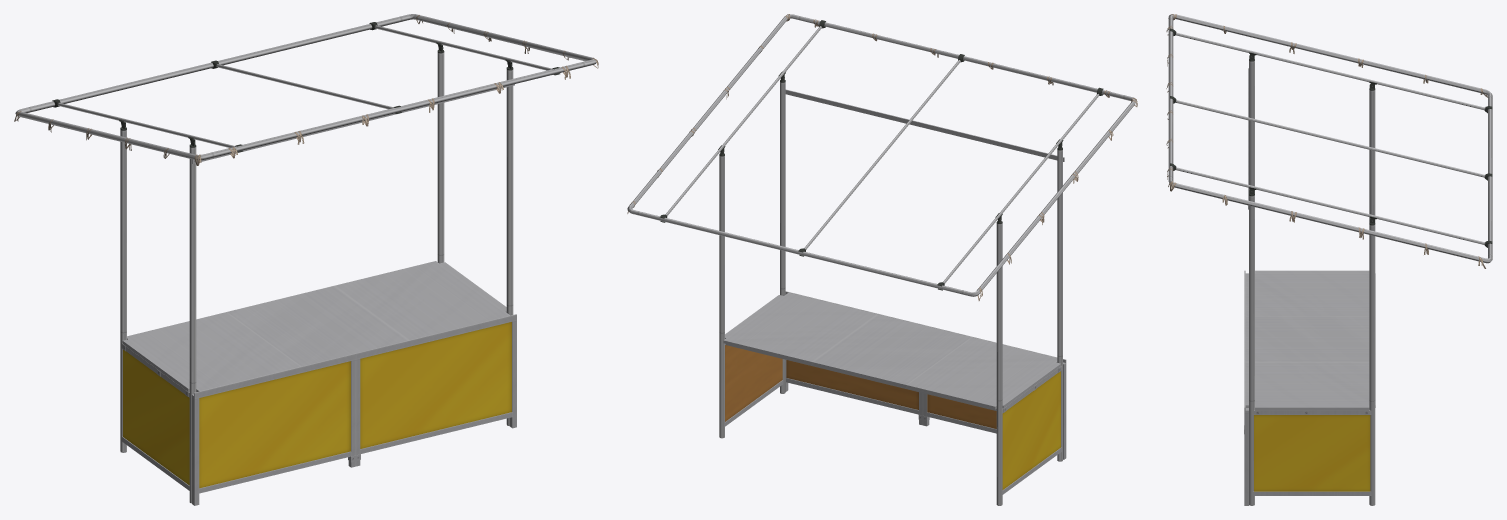
Rendered from jsf_4P_s02_c03_t01.fbx.
3 renders of one model, left to right at view 1: azimuth 30°, elevation 25°; view 2: azimuth 150°, elevation 25°; view 3: azimuth 270°, elevation 25°, orthographic. The views are drawn at different scales.
Parts seen in each view (by area): view 1: Base_s02_c03, Table_4P_s02_t01, Pillar4_s02, Rope_4P_s02; view 2: Table_4P_s02_t01, Pillar4_s02, Base_s02_c03, Rope_4P_s02; view 3: Table_4P_s02_t01, Pillar4_s02, Base_s02_c03, Rope_4P_s02.
Part boxes in pixels (x1=…): Base_s02_c03: x1=121, y1=314, x2=516, y2=505; Table_4P_s02_t01: x1=122, y1=261, x2=509, y2=396; Pillar4_s02: x1=15, y1=14, x2=596, y2=503; Rope_4P_s02: x1=14, y1=15, x2=598, y2=165; Table_4P_s02_t01: x1=723, y1=292, x2=1061, y2=412; Pillar4_s02: x1=627, y1=14, x2=1136, y2=505; Base_s02_c03: x1=725, y1=291, x2=1066, y2=494; Rope_4P_s02: x1=627, y1=14, x2=1137, y2=300; Table_4P_s02_t01: x1=1245, y1=270, x2=1375, y2=414; Pillar4_s02: x1=1168, y1=14, x2=1492, y2=505; Base_s02_c03: x1=1244, y1=270, x2=1371, y2=505; Rope_4P_s02: x1=1166, y1=14, x2=1487, y2=268.
Bounding box in the file's own units: 264 × 243 × 211.
